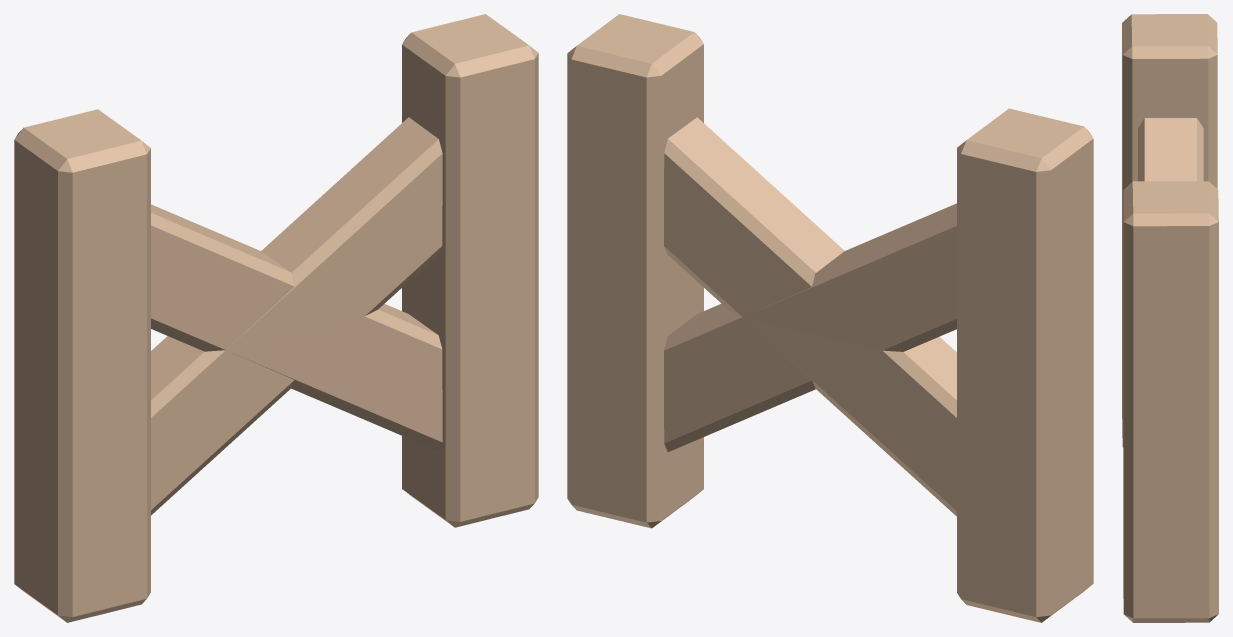
Rendered from fence_1.fbx.
3 renders of one model, left to right at view 1: azimuth 30°, elevation 25°; view 2: azimuth 150°, elevation 25°; view 3: azimuth 270°, elevation 25°, orthographic. The views are drawn at different scales.
Visible parts, largest first — view 1: fence_3; view 2: fence_3; view 3: fence_3.
Part boxes in pixels (box(x1,y1,x2,y2)): fence_3: box(14, 14, 538, 622); fence_3: box(567, 14, 1093, 622); fence_3: box(1122, 14, 1218, 622).
Size of the model in its own units: 120 by 110 by 23.65.
